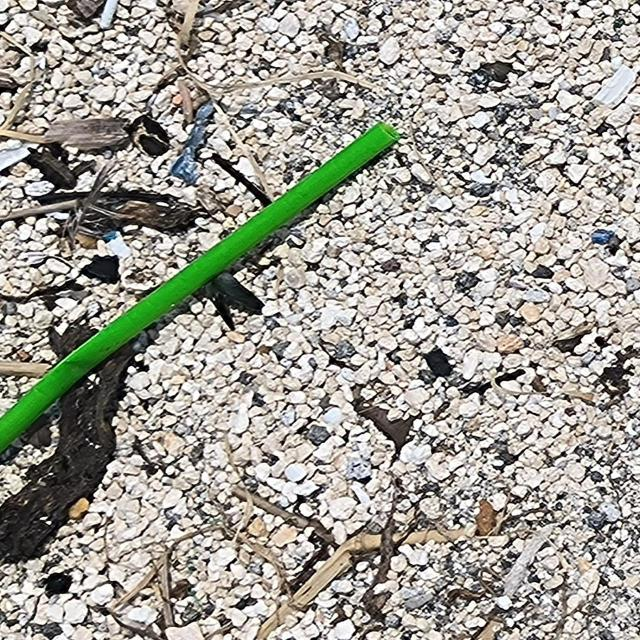plastic_waste: (1, 120, 403, 453)
